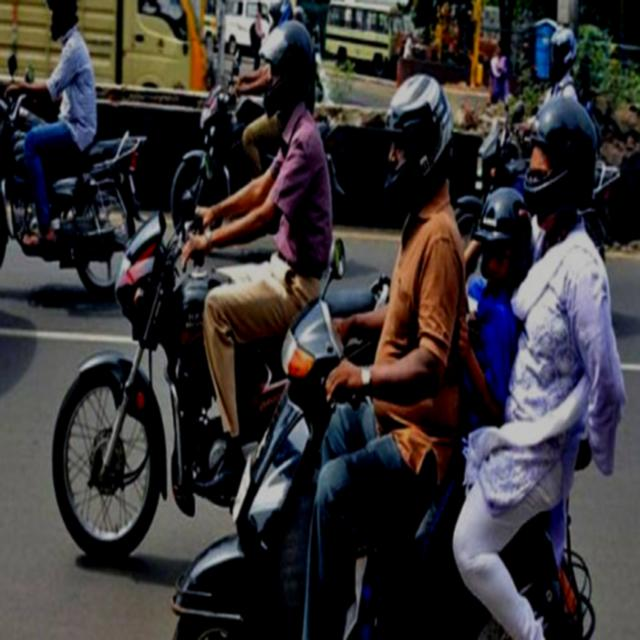not_triplets: (132, 21, 343, 516), (0, 0, 134, 291)
triplets: (332, 89, 608, 640)
with-helmet: (386, 71, 454, 218), (525, 95, 598, 218), (477, 184, 535, 288), (258, 15, 314, 114), (550, 21, 578, 78), (45, 0, 79, 36)
